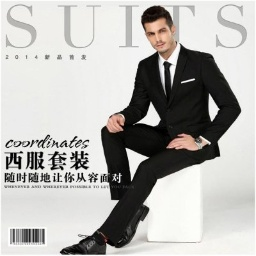face: (139, 4, 179, 54)
